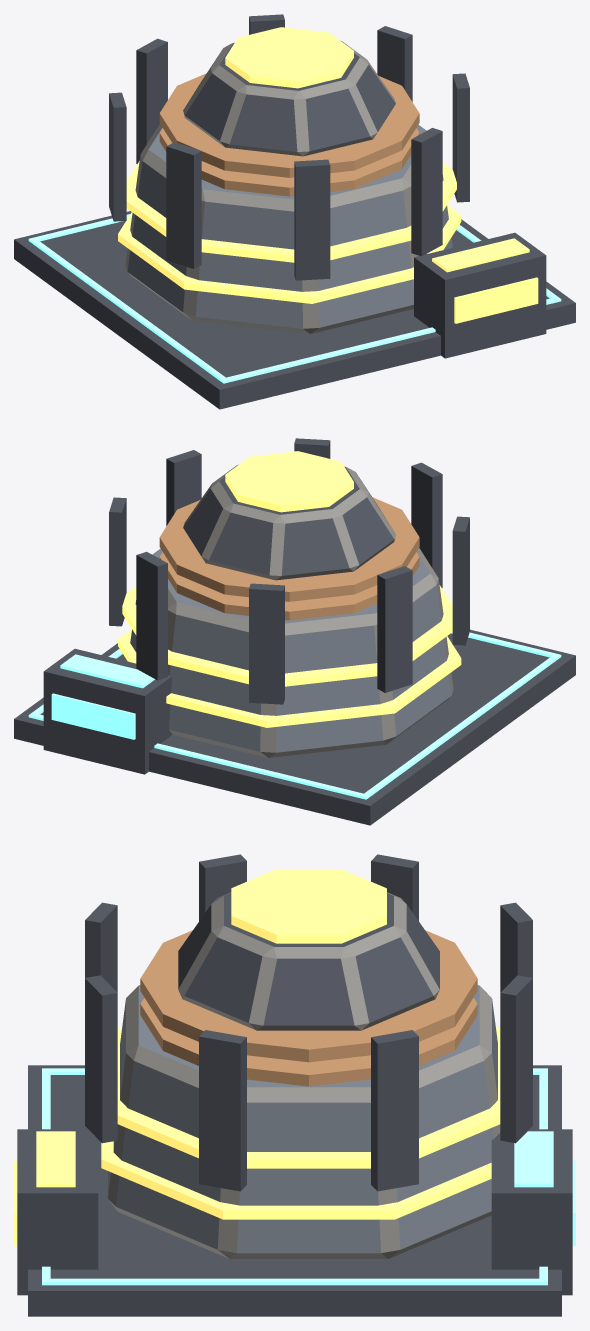
The model's file is fornalha_sem_textura.glb.
The picture shows the model from 3 angles, top to bottom: view 1: azimuth 30°, elevation 25°; view 2: azimuth 150°, elevation 25°; view 3: azimuth 270°, elevation 25°; orthographic projection. The views are drawn at different scales.
Parts seen in each view (by area): view 1: fornalha; view 2: fornalha; view 3: fornalha.
Boxes of the visible parts, x1,y1,x2,y2 form: fornalha: (14,14,575,409); fornalha: (14,438,575,825); fornalha: (14,854,575,1316).
Size of the model in its own units: 1.9 by 1.18 by 2.
